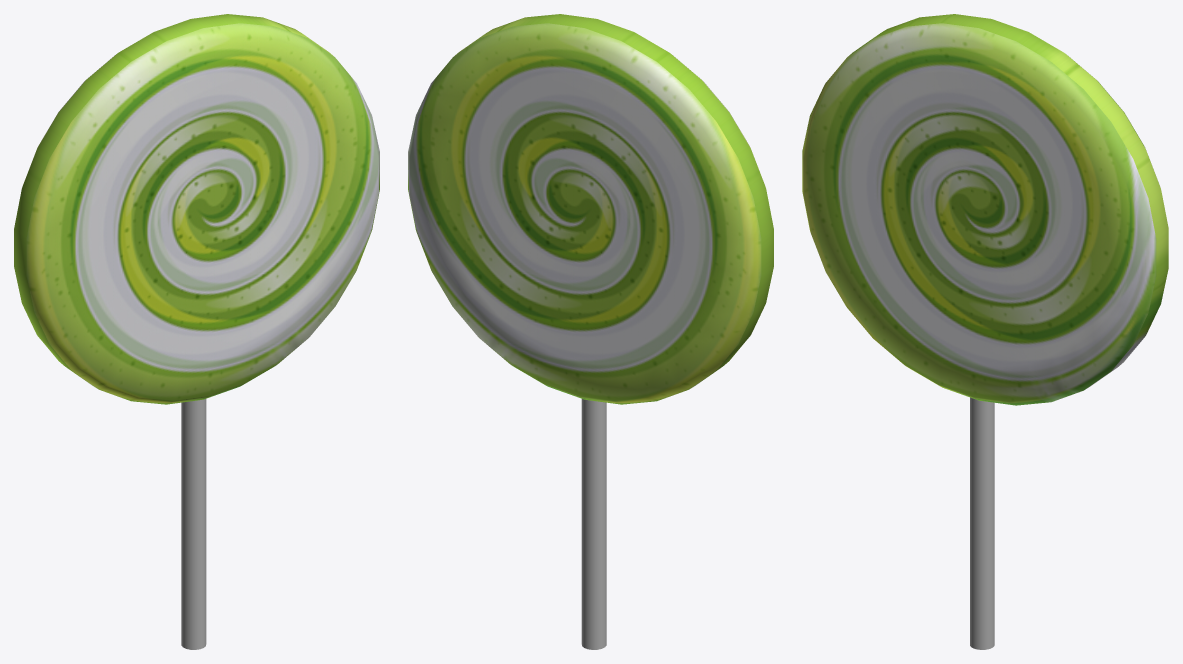
The model's file is PaletaPiruetaVerde.obj.
The picture shows the model from 3 angles, left to right: view 1: azimuth 30°, elevation 25°; view 2: azimuth 150°, elevation 25°; view 3: azimuth 330°, elevation 25°; orthographic projection.
Parts seen in each view (by area): view 1: Circle_Circle.002, Cylinder; view 2: Circle_Circle.002, Cylinder; view 3: Circle_Circle.002, Cylinder.
Boxes of the visible parts, x1=… form: Circle_Circle.002: x1=14, y1=14, x2=379, y2=404; Cylinder: x1=181, y1=399, x2=206, y2=649; Circle_Circle.002: x1=408, y1=14, x2=773, y2=404; Cylinder: x1=581, y1=399, x2=606, y2=649; Circle_Circle.002: x1=802, y1=14, x2=1168, y2=405; Cylinder: x1=970, y1=397, x2=994, y2=649.
Size of the model in its own units: 6.51 by 10.91 by 0.8009.
2 materials, 2 textured.
